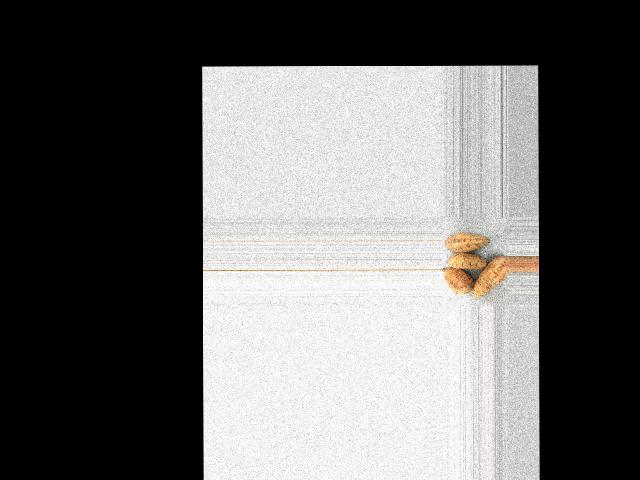sweet_potato: (473, 251, 509, 301)
